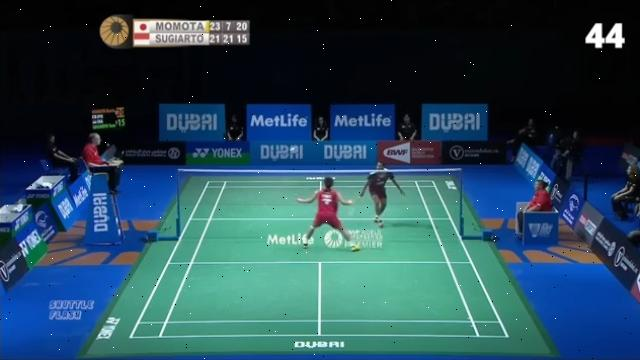Shuttlecock: (288, 145, 298, 153)
